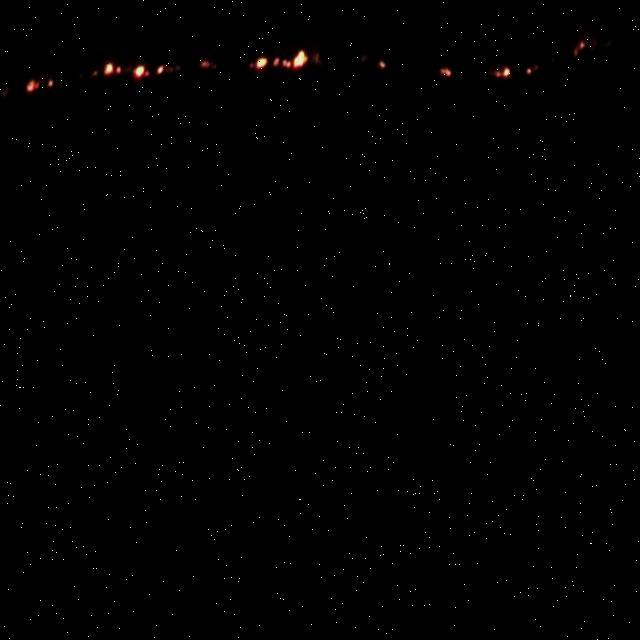Fire: (98, 52, 182, 98), (254, 59, 308, 90), (24, 74, 59, 98), (576, 58, 602, 84), (492, 88, 514, 106), (439, 81, 456, 103), (381, 73, 392, 87)
